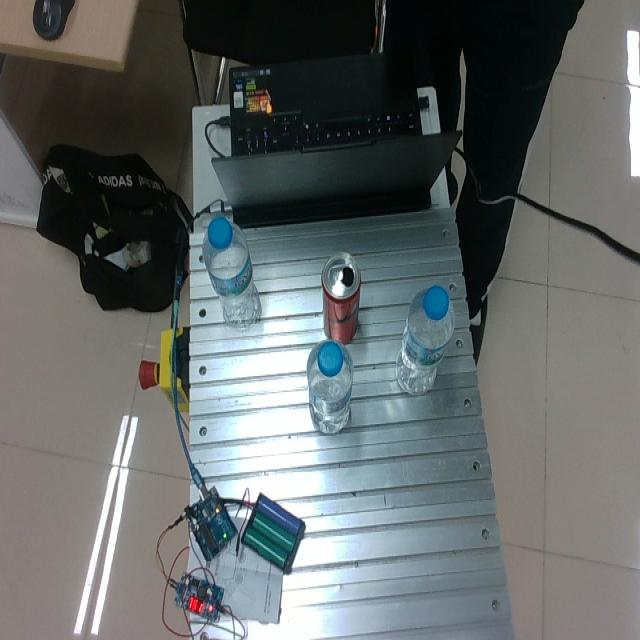coca: (321, 252, 362, 344)
lavie: (394, 284, 456, 396), (202, 216, 261, 329), (306, 340, 353, 433)
